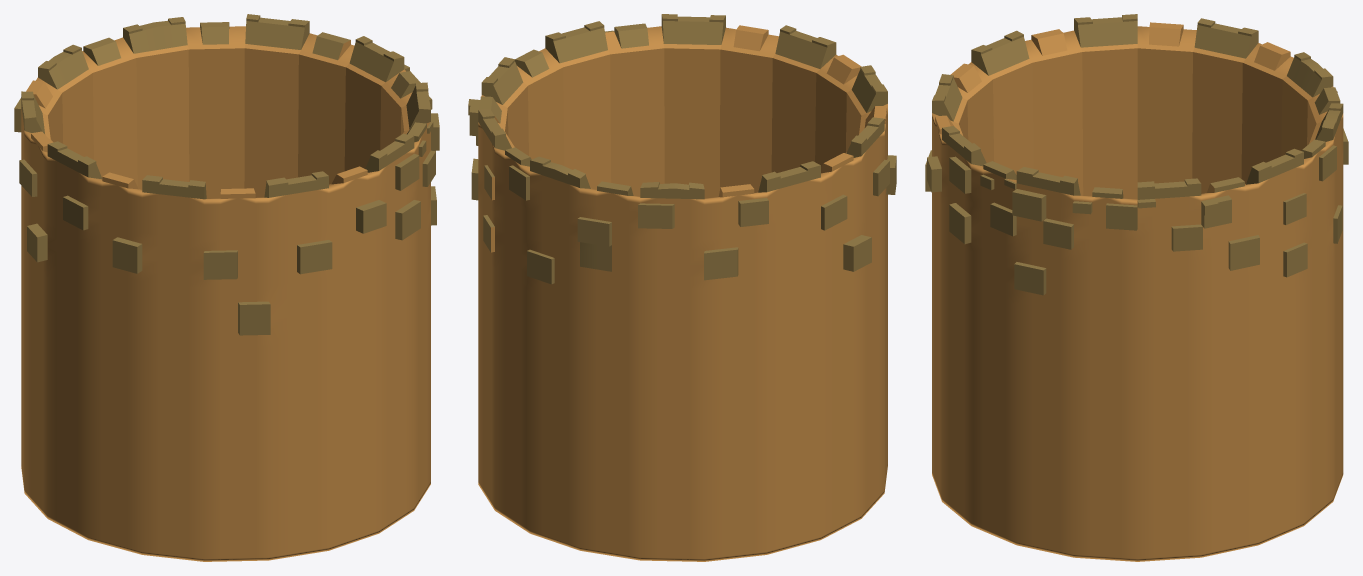
File: outerwall_Raw.fbx
3 renders of one model, left to right at view 1: azimuth 30°, elevation 25°; view 2: azimuth 150°, elevation 25°; view 3: azimuth 270°, elevation 25°, orthographic.
Parts seen in each view (by area): view 1: pCylinder2; view 2: pCylinder2; view 3: pCylinder2.
Boxes of the visible parts, x1,y1,x2,y2 form: pCylinder2: (14,14,439,561); pCylinder2: (468,14,896,561); pCylinder2: (925,14,1348,561).
Bounding box in the file's own units: 2201 × 2114 × 2164.
